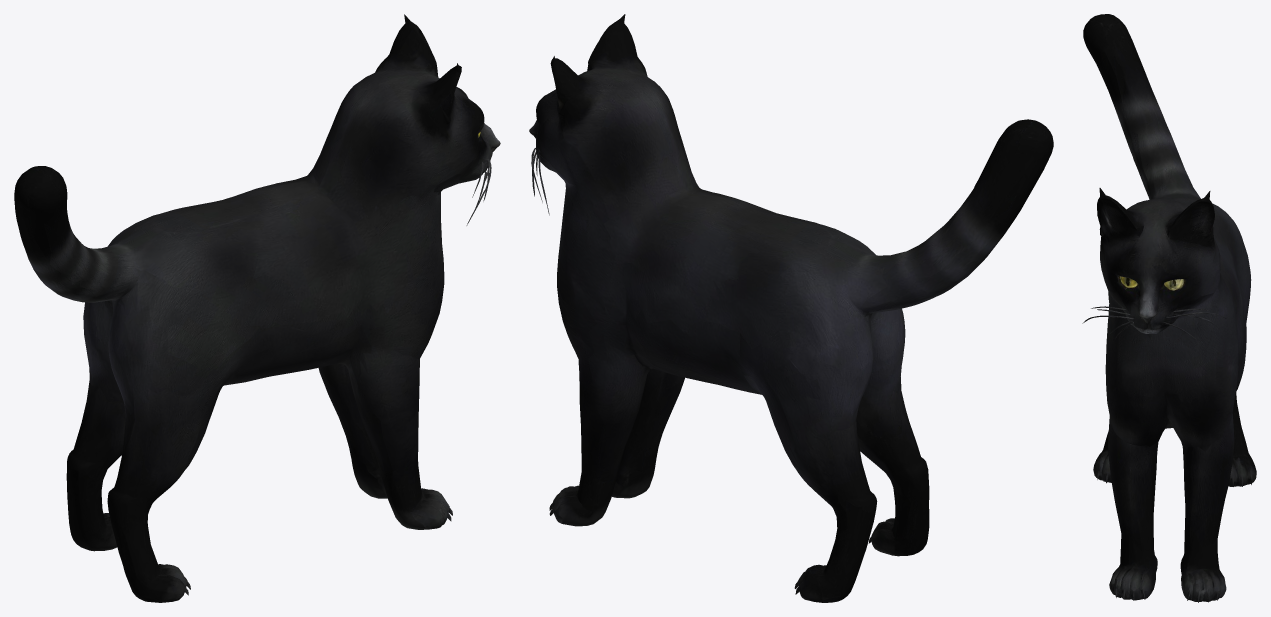
The model's file is SABERHACAT.glb.
3 views of the same model, side by side, from view 1: azimuth 30°, elevation 25°; view 2: azimuth 150°, elevation 25°; view 3: azimuth 270°, elevation 25° (orthographic). The views are drawn at different scales.
Parts seen in each view (by area): view 1: fit; view 2: fit; view 3: fit.
Part boxes in pixels (x1,y1,x2,y2): fit: [14, 14, 500, 602]; fit: [529, 14, 1053, 602]; fit: [1082, 14, 1256, 602].
Bounding box in the file's own units: 1.12 × 1 × 0.3821.
Materials: 1 (1 with a texture image).
